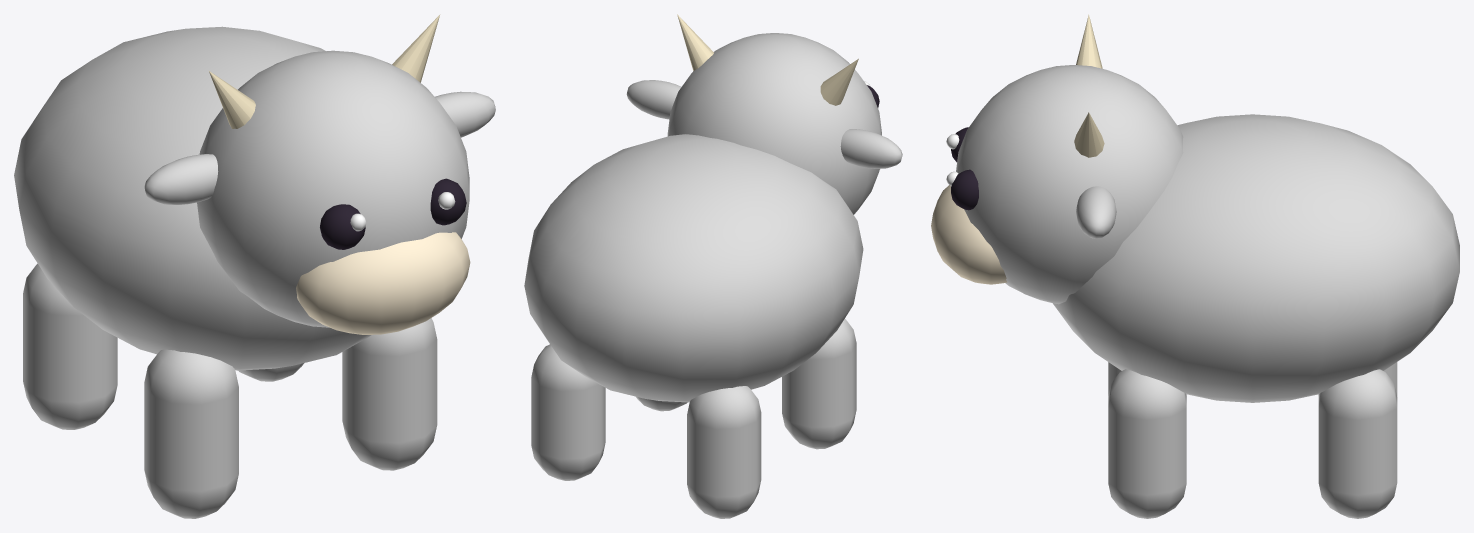
Rendered from pet_ox_ph.glb.
3 renders of one model, left to right at view 1: azimuth 30°, elevation 25°; view 2: azimuth 150°, elevation 25°; view 3: azimuth 270°, elevation 25°, orthographic. The views are drawn at different scales.
Parts seen in each view (by area): view 1: pet_ox; view 2: pet_ox; view 3: pet_ox.
Boxes of the visible parts, <box> form: pet_ox: <box>14,14,495,518</box>; pet_ox: <box>524,14,902,518</box>; pet_ox: <box>931,14,1459,518</box>.
Size of the model in its own units: 0.48 by 0.6021 by 0.7037.
